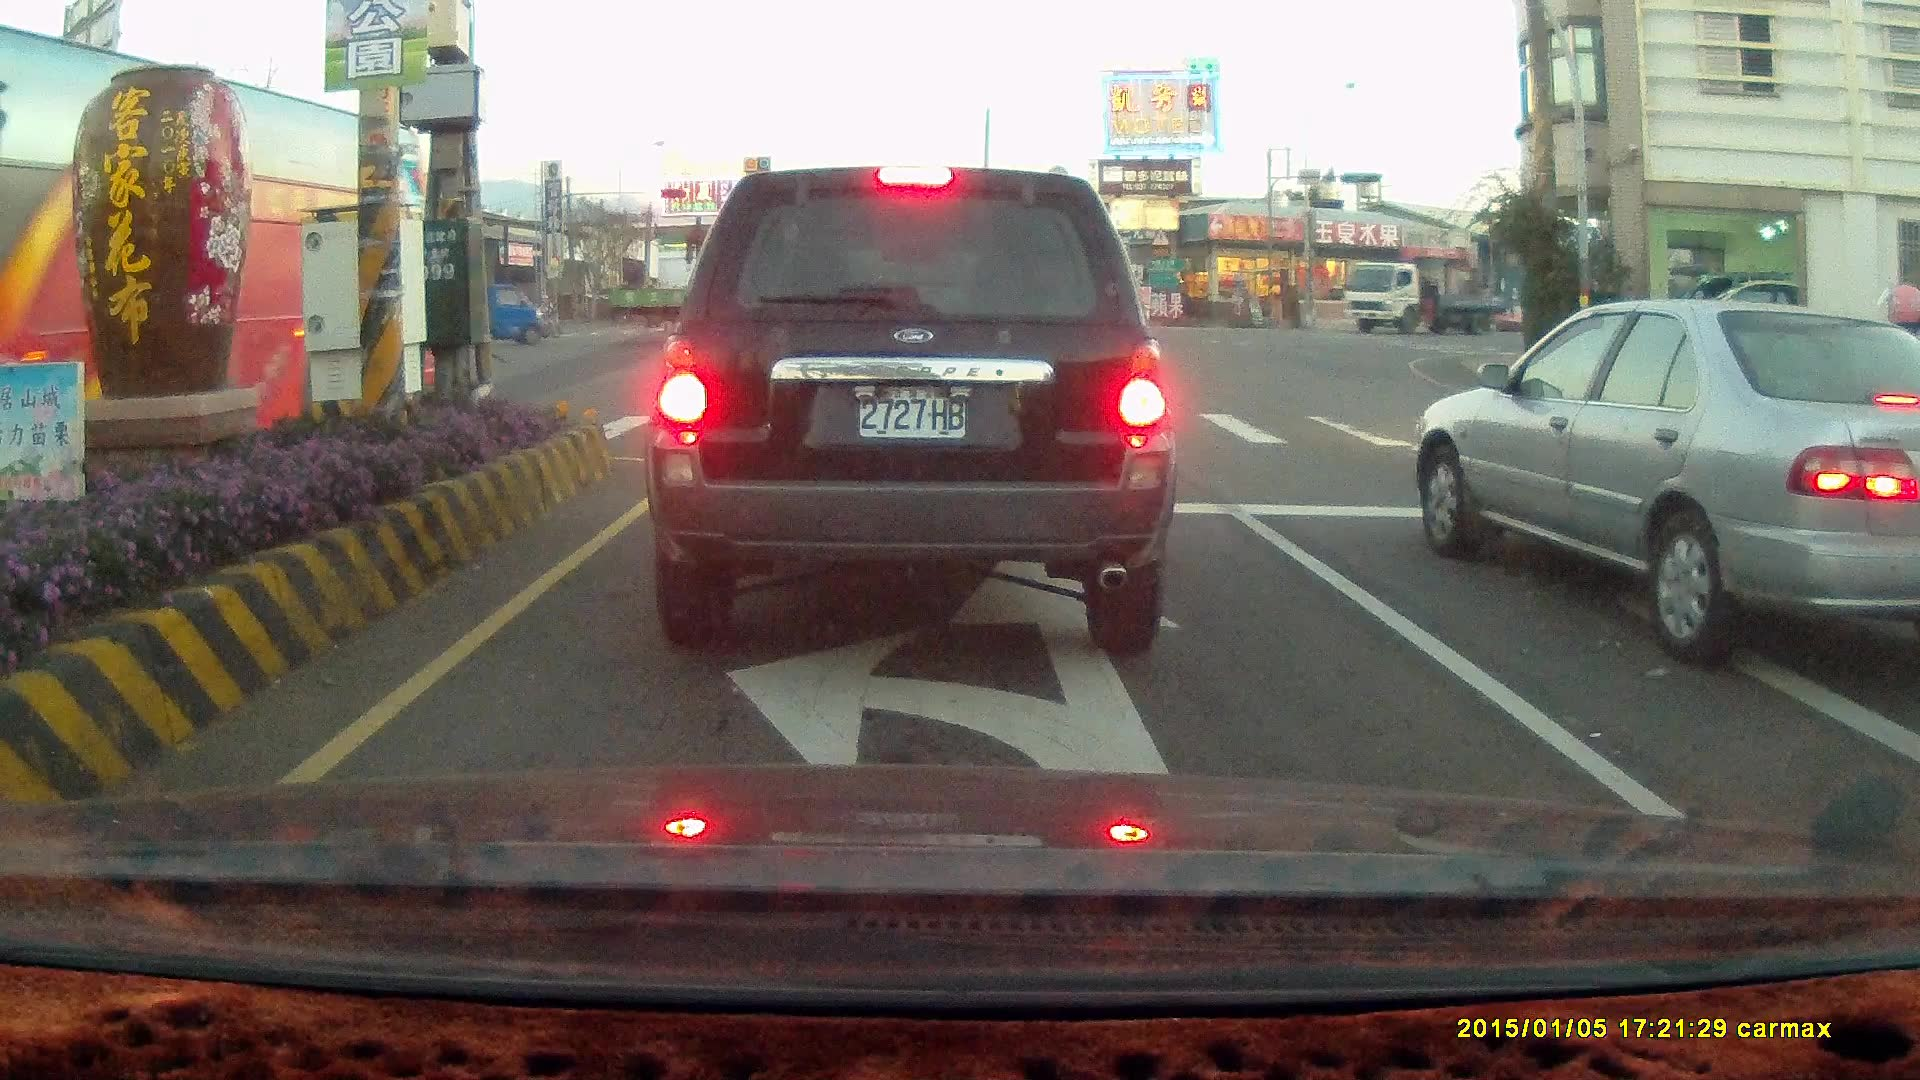vehicle: (641, 162, 1178, 657), (1408, 295, 1920, 670), (1429, 301, 1920, 679), (601, 255, 864, 344), (1342, 258, 1499, 338), (1646, 276, 1789, 359), (1896, 493, 1920, 836), (1043, 277, 1142, 345), (468, 280, 546, 348)
